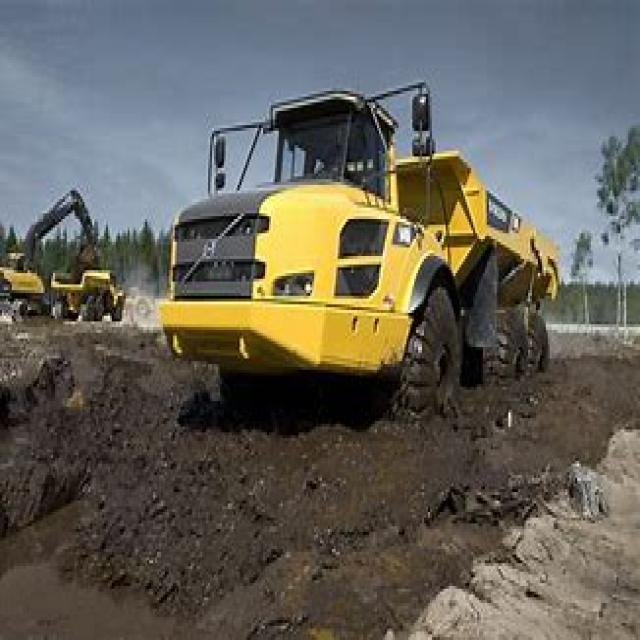dump_truck: (169, 76, 573, 426)
